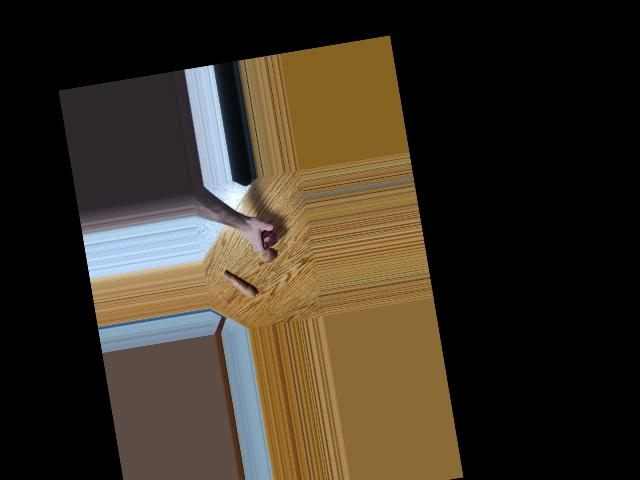onion: (254, 244, 274, 264)
